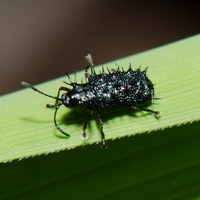insect: (20, 54, 159, 147)
